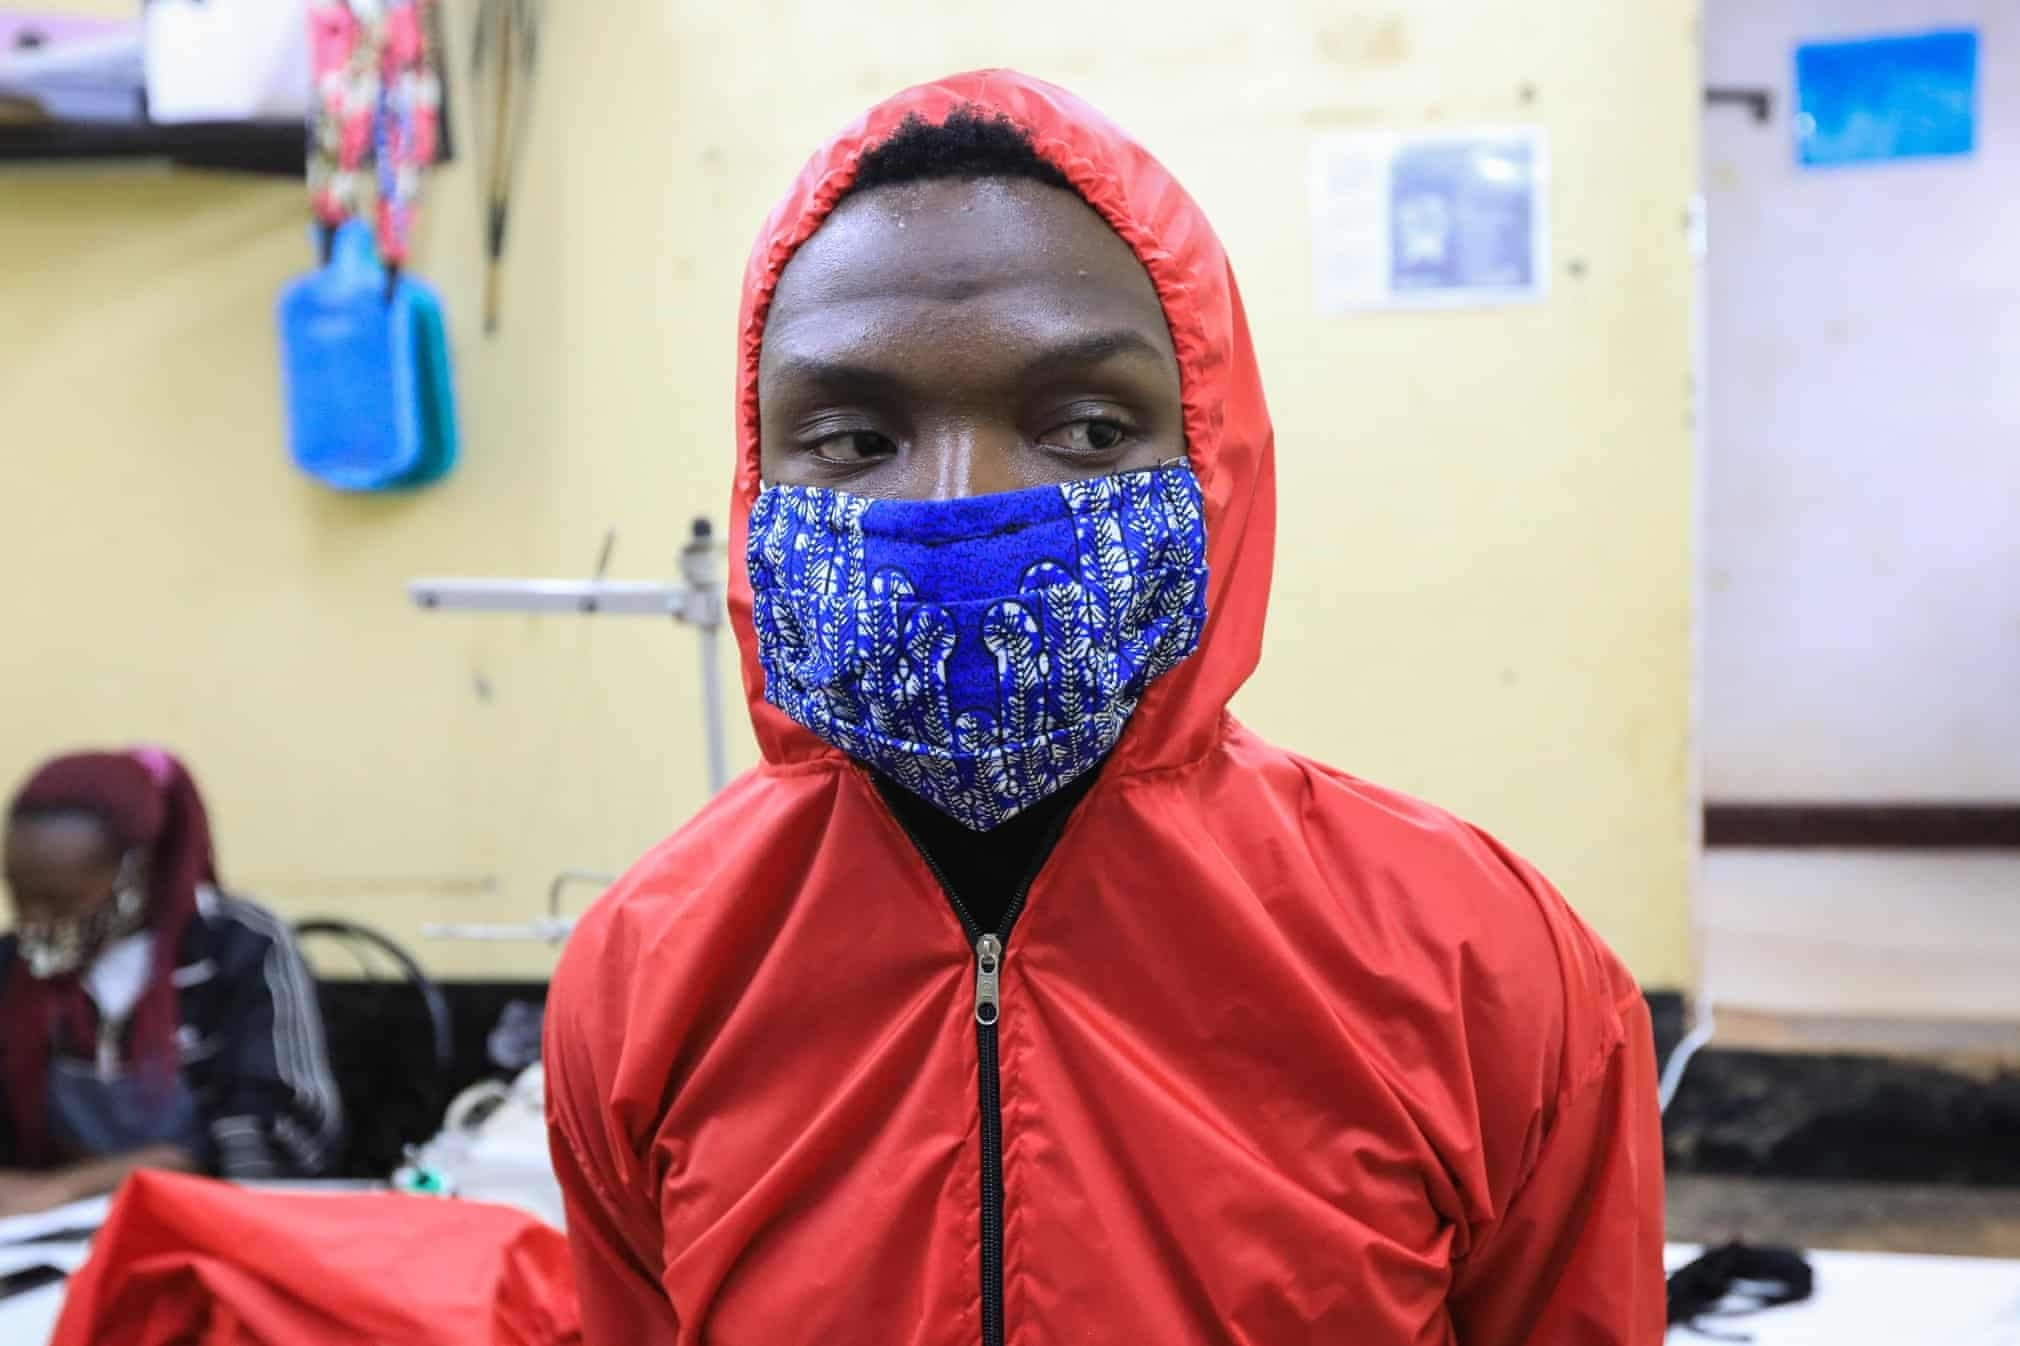face_with_mask: (732, 90, 1269, 842)
